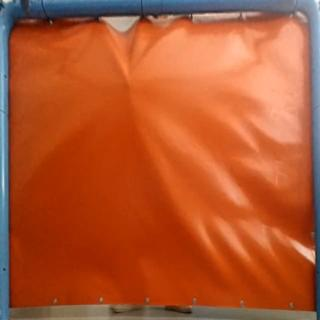Hit-hRxx: (121, 73, 135, 89)
